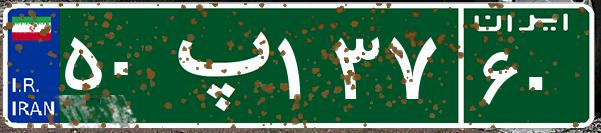0: (110, 28, 158, 105), (525, 38, 570, 115)
1: (273, 28, 330, 110)
3: (330, 28, 385, 110)
5: (57, 26, 110, 107)
6: (475, 38, 525, 113)
7: (385, 28, 445, 110)
پ: (158, 15, 273, 115)
